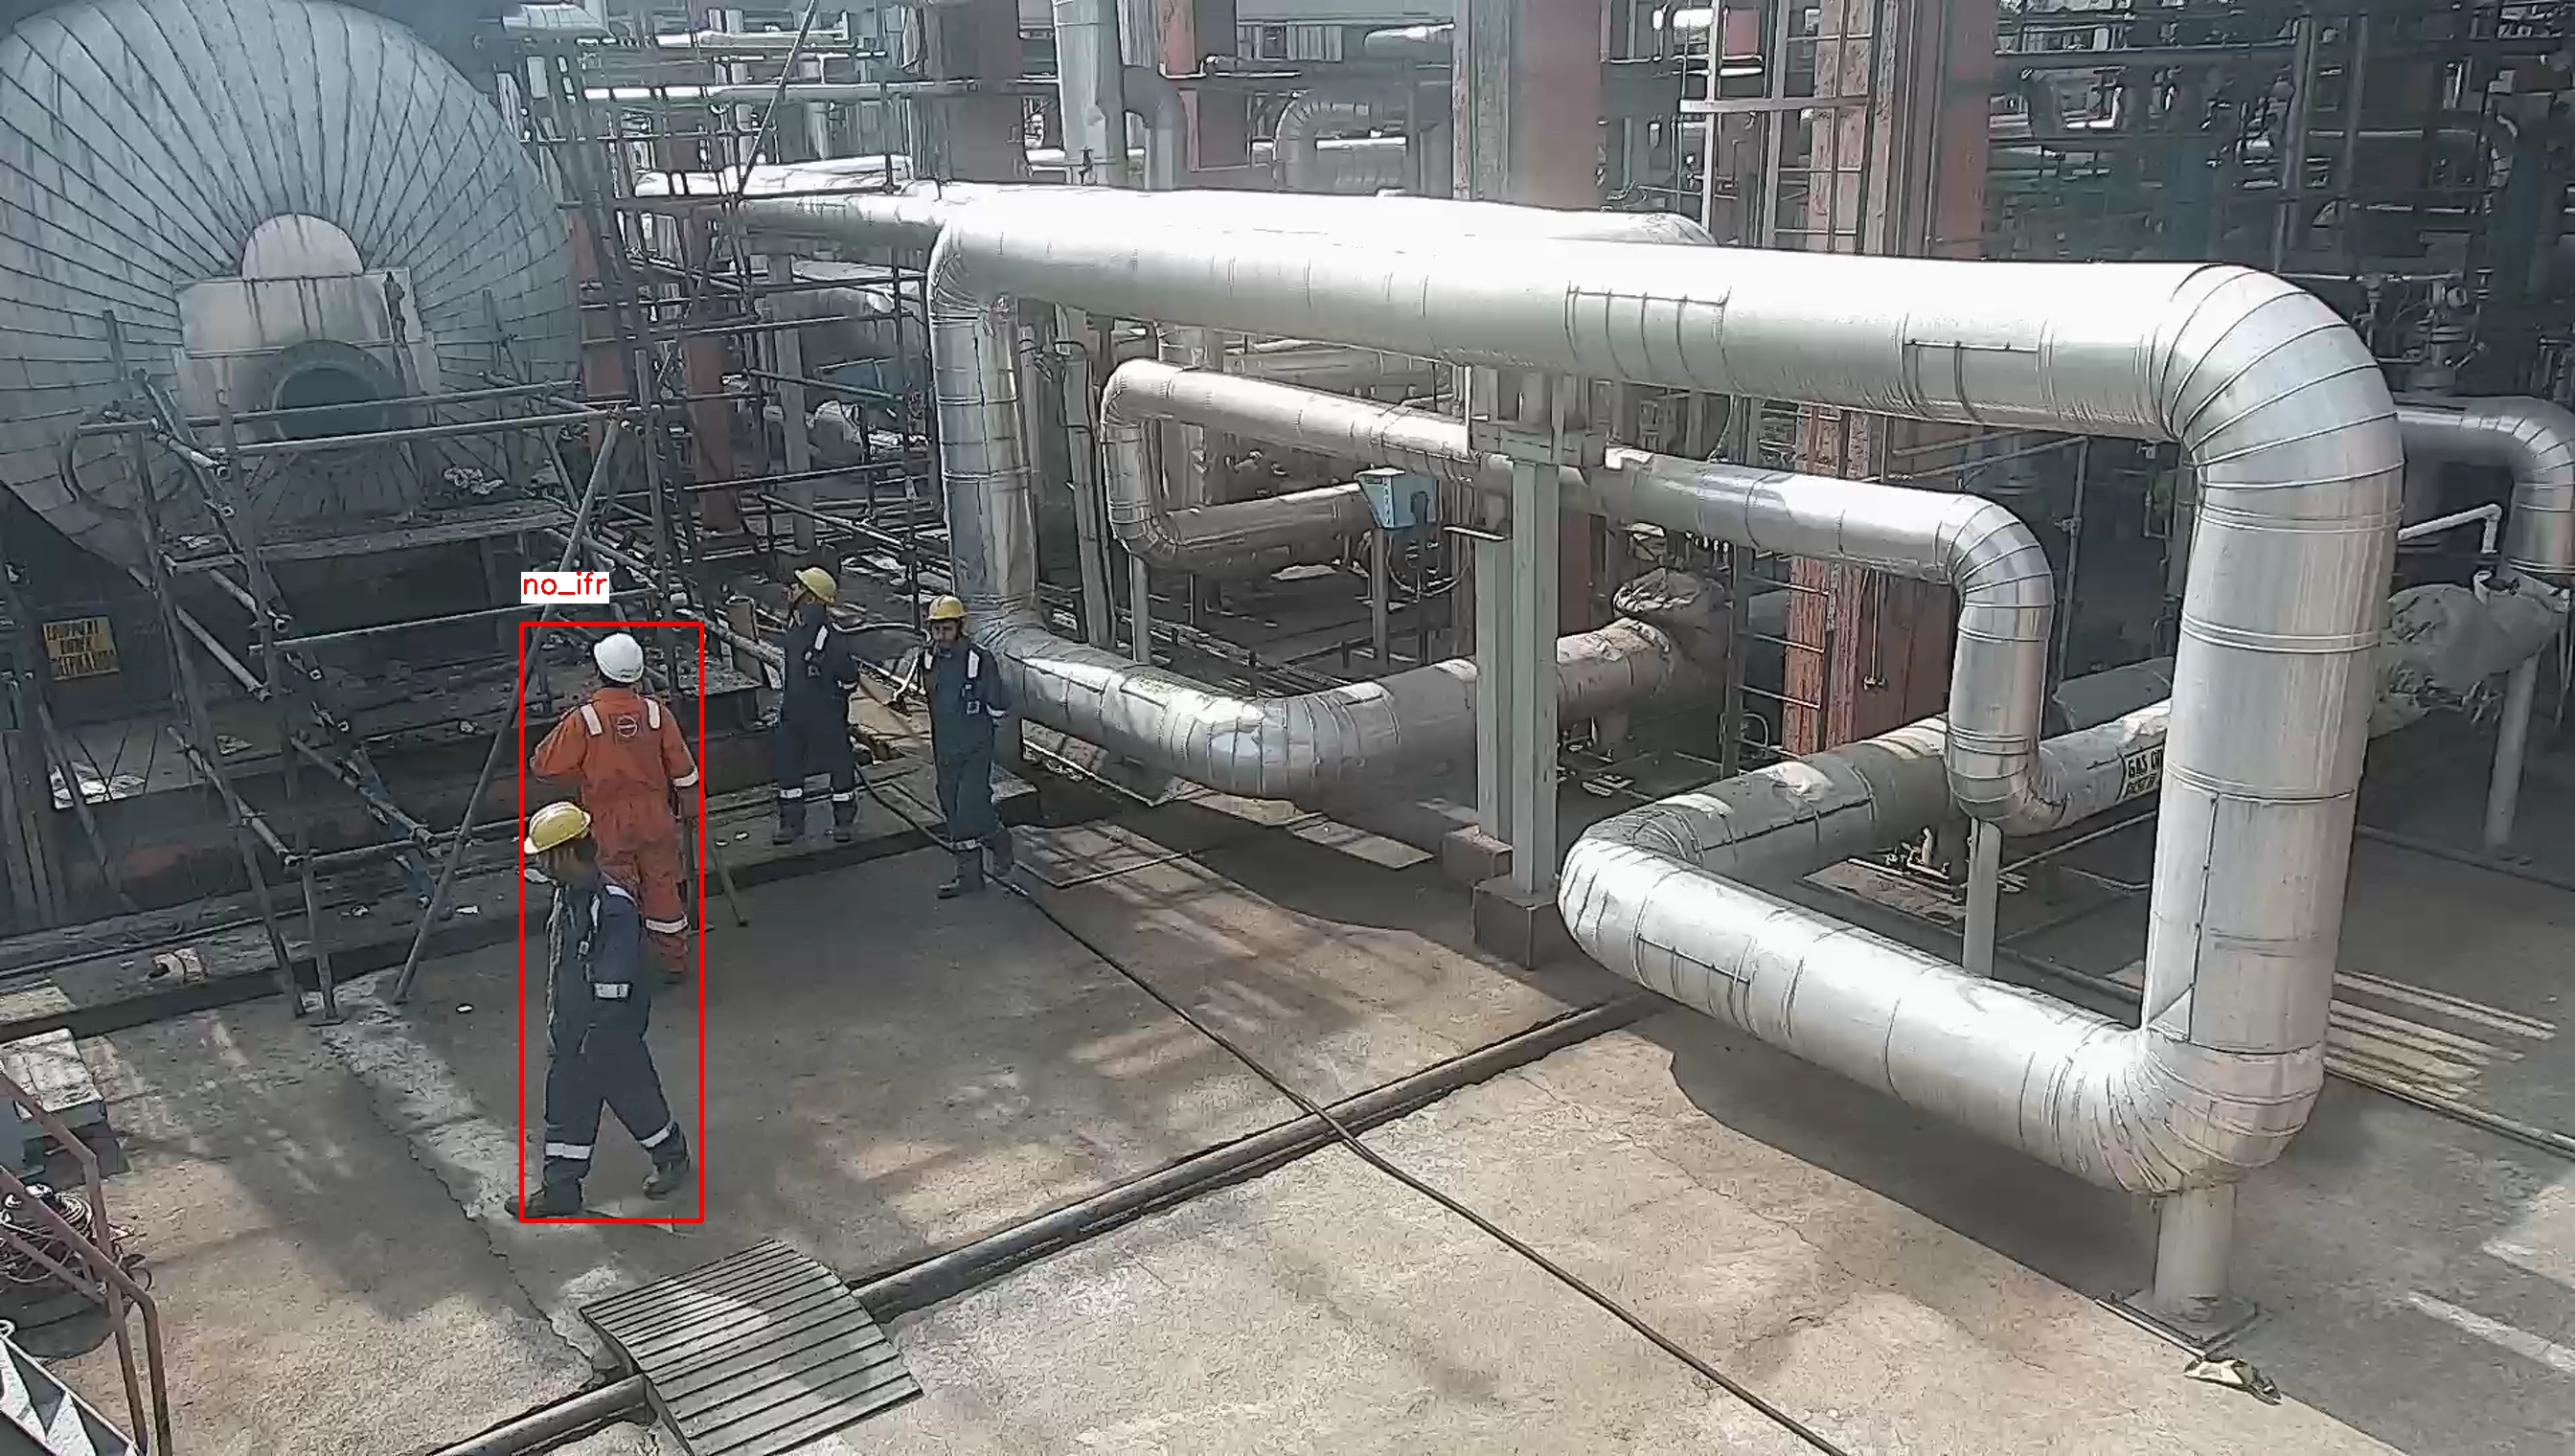Boots: (934, 847, 989, 908), (640, 1152, 695, 1205)
Helmets: (523, 801, 600, 854), (585, 633, 658, 688), (791, 563, 845, 605), (923, 584, 971, 625)
IFR_Suit: (539, 688, 693, 964), (529, 877, 676, 1155), (920, 637, 1028, 842), (766, 616, 865, 823)
